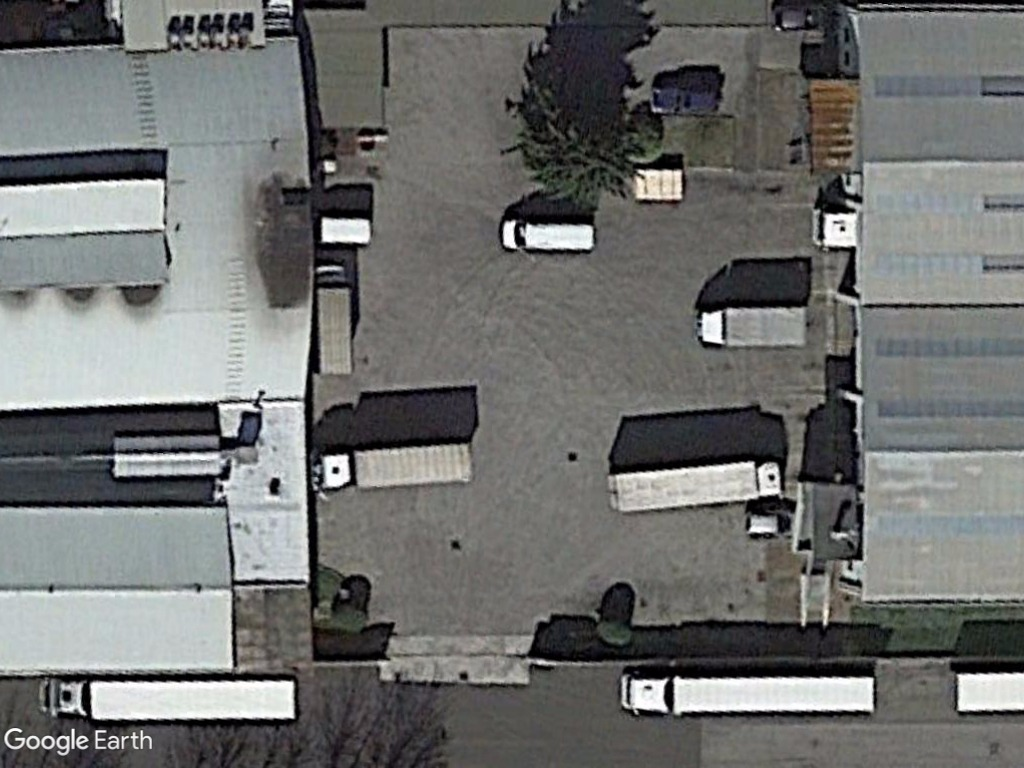longvehicle: (35, 673, 307, 731), (614, 661, 881, 718)
truck: (602, 459, 789, 514), (312, 436, 476, 495), (306, 260, 360, 380), (694, 304, 814, 351)
van: (494, 210, 601, 257)
